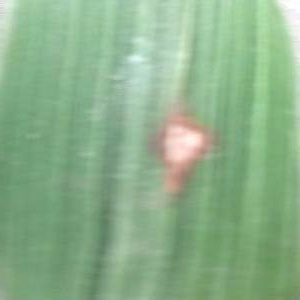Brown_Spot: (134, 94, 242, 219)
